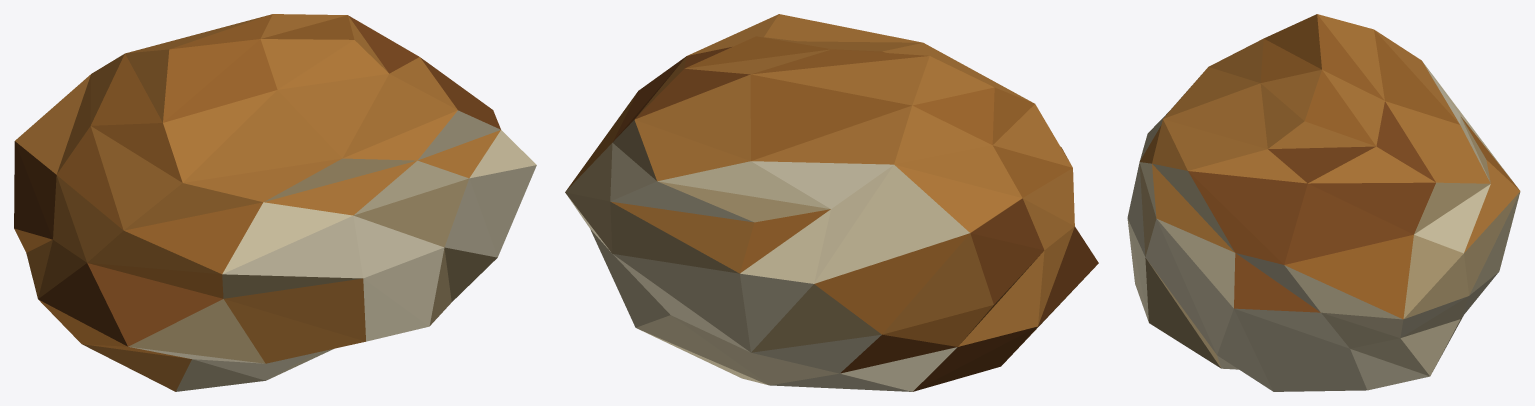
The model's file is food-crumb.glb.
The picture shows the model from 3 angles, left to right: view 1: azimuth 30°, elevation 25°; view 2: azimuth 150°, elevation 25°; view 3: azimuth 270°, elevation 25°; orthographic projection. The views are drawn at different scales.
Bounding box in the file's own units: 2.05 × 1.47 × 1.71.
